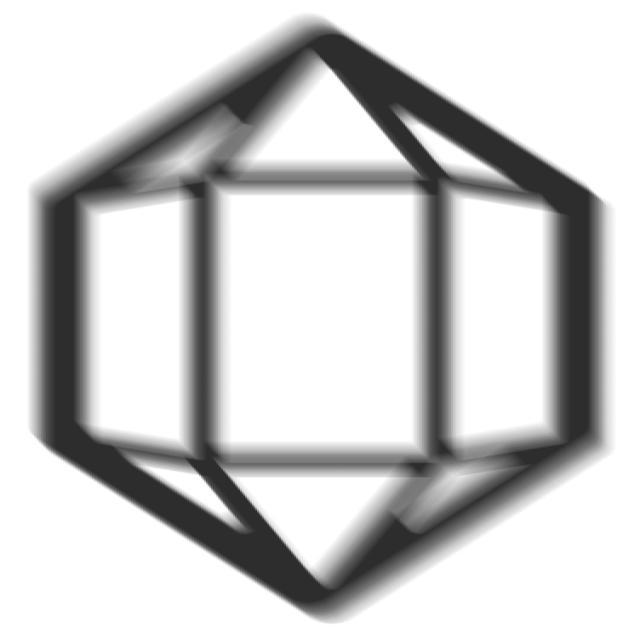crystal: (11, 7, 631, 630)
